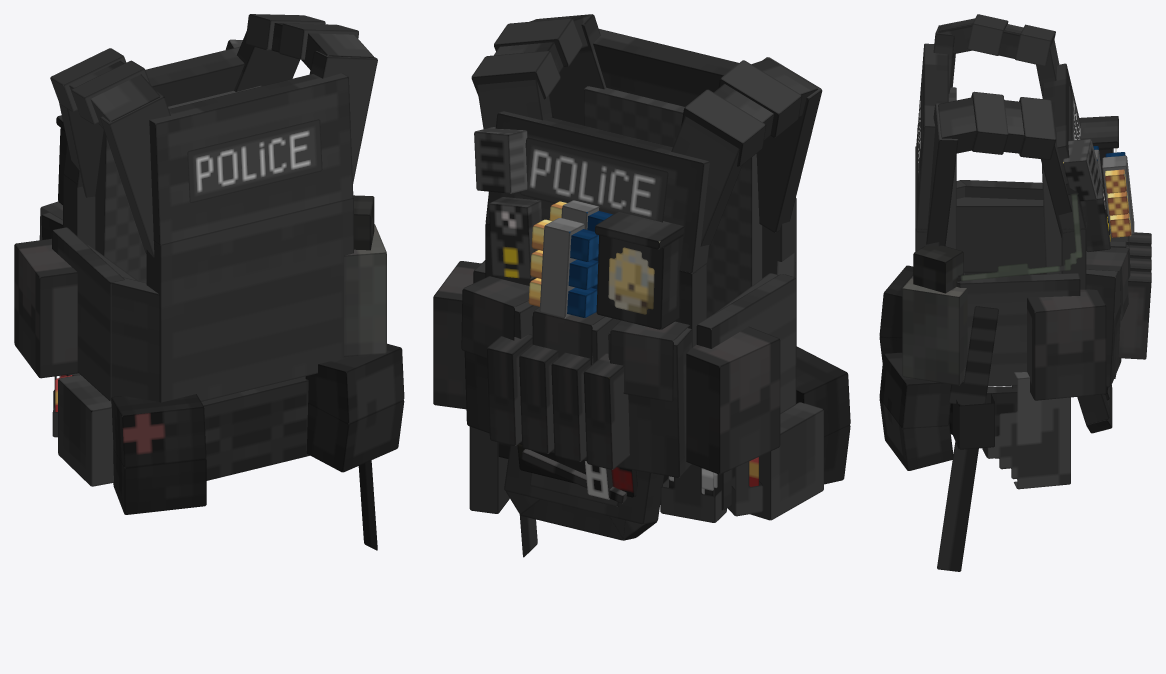
The model's file is a_police.obj.
3 views of the same model, side by side, from view 1: azimuth 30°, elevation 25°; view 2: azimuth 150°, elevation 25°; view 3: azimuth 270°, elevation 25° (orthographic). The views are drawn at different scales.
Visible parts, largest first — view 1: plane; view 2: plane; view 3: plane.
Boxes of the visible parts, x1,y1,x2,y2 form: plane: [14, 14, 404, 550]; plane: [433, 14, 850, 557]; plane: [879, 14, 1151, 571].
Bounding box in the file's own units: 0.7741 × 1.54 × 0.6963.
